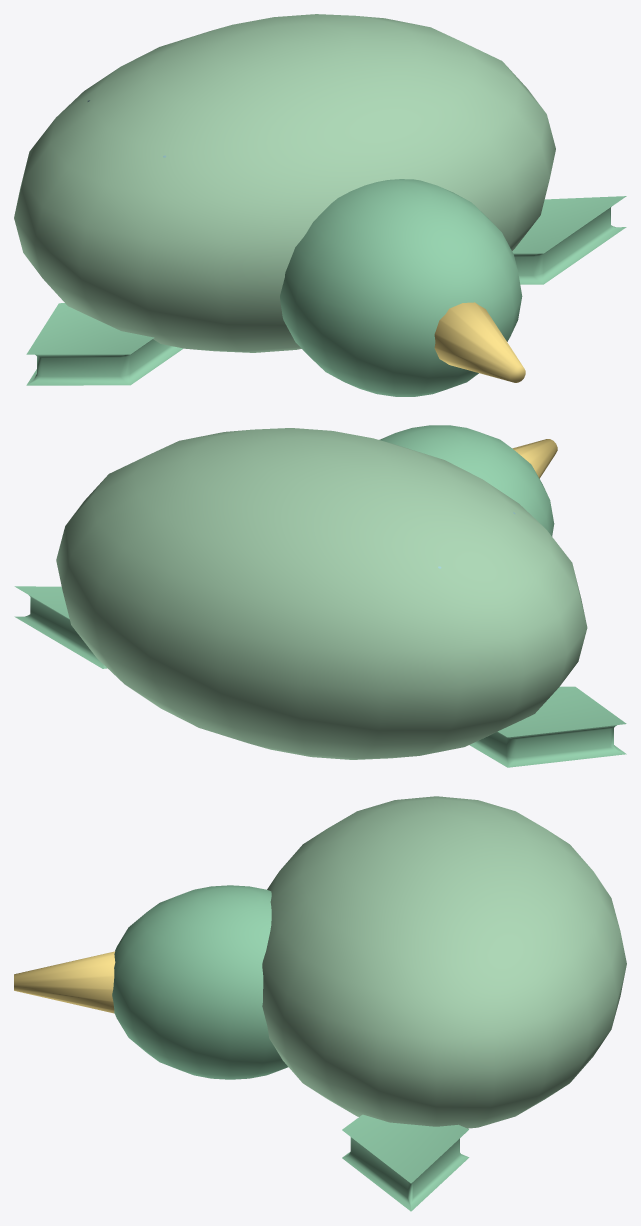
File: turtle_statue.glb
3 views of the same model, one above another, from view 1: azimuth 30°, elevation 25°; view 2: azimuth 150°, elevation 25°; view 3: azimuth 270°, elevation 25° (orthographic). The views are drawn at different scales.
Parts seen in each view (by area): view 1: Fixed_Detail.010; view 2: Fixed_Detail.010; view 3: Fixed_Detail.010.
Boxes of the visible parts, bbox=[...] form: Fixed_Detail.010: bbox=[14, 14, 626, 396]; Fixed_Detail.010: bbox=[14, 425, 626, 767]; Fixed_Detail.010: bbox=[14, 796, 626, 1211].
Bounding box in the file's own units: 6.23 × 2.7 × 5.95.
